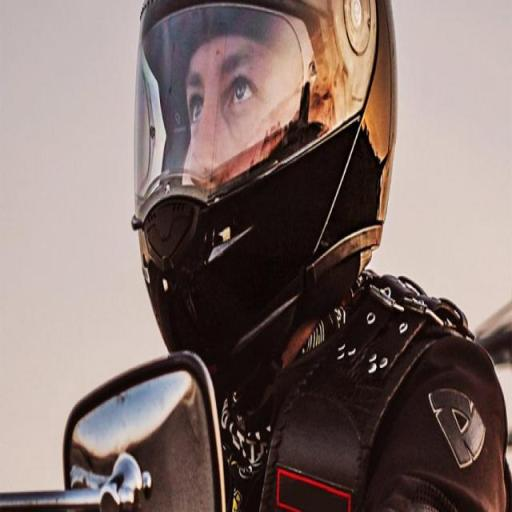Helmet: (125, 0, 390, 381)
